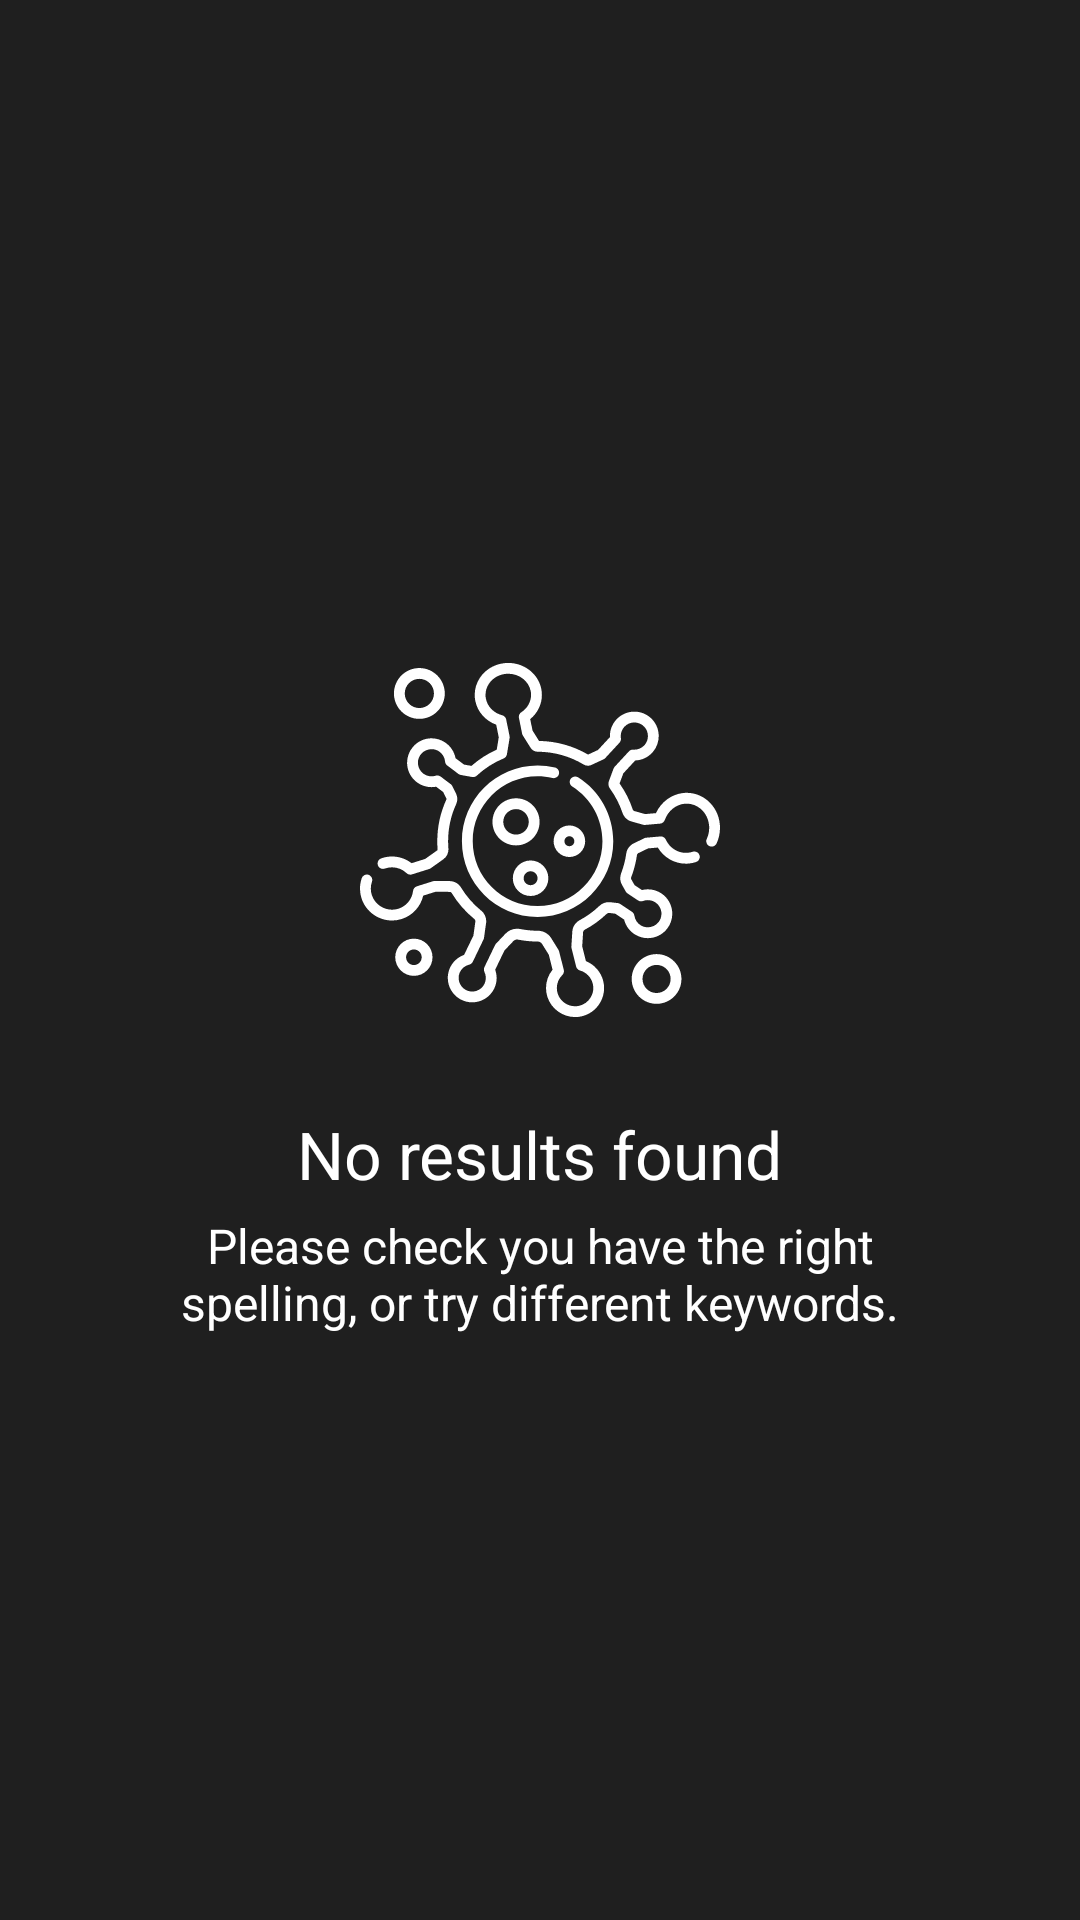

Named icons in this screenshot (1080 × 1920) and their bounding boxes, (x1, y1, x2, y2):
virus: (360, 663, 720, 1017)
